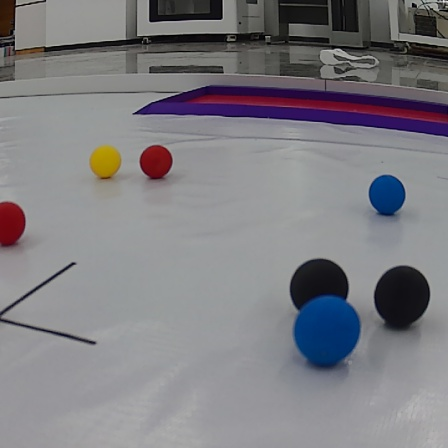black: (370, 262, 433, 327), (283, 256, 354, 311)
blue: (294, 299, 363, 370), (369, 174, 407, 219)
red: (1, 199, 29, 245), (139, 143, 174, 178)
red_aim: (137, 79, 448, 135)
yellow: (88, 143, 122, 179)
